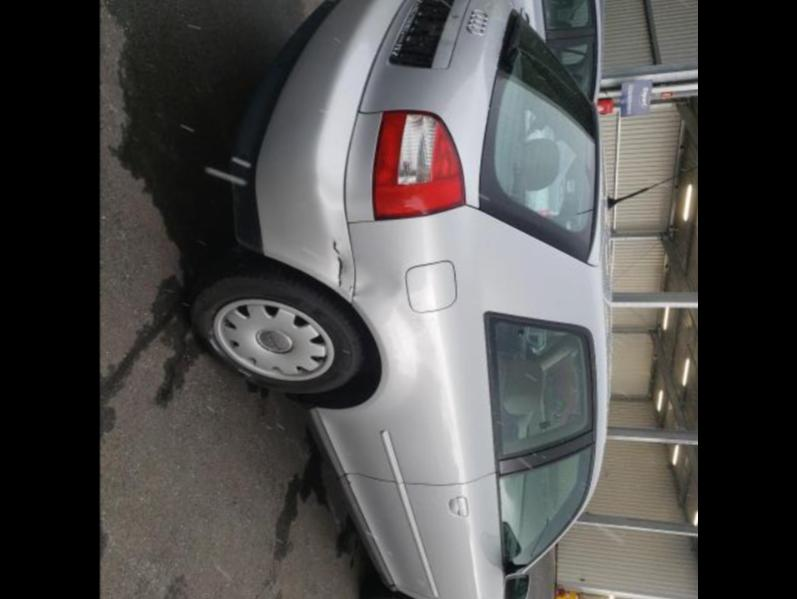Broken part: (317, 225, 354, 299)
Dent: (303, 235, 401, 302)
Missing part: (393, 0, 453, 67)
Scratch: (332, 241, 345, 286)
